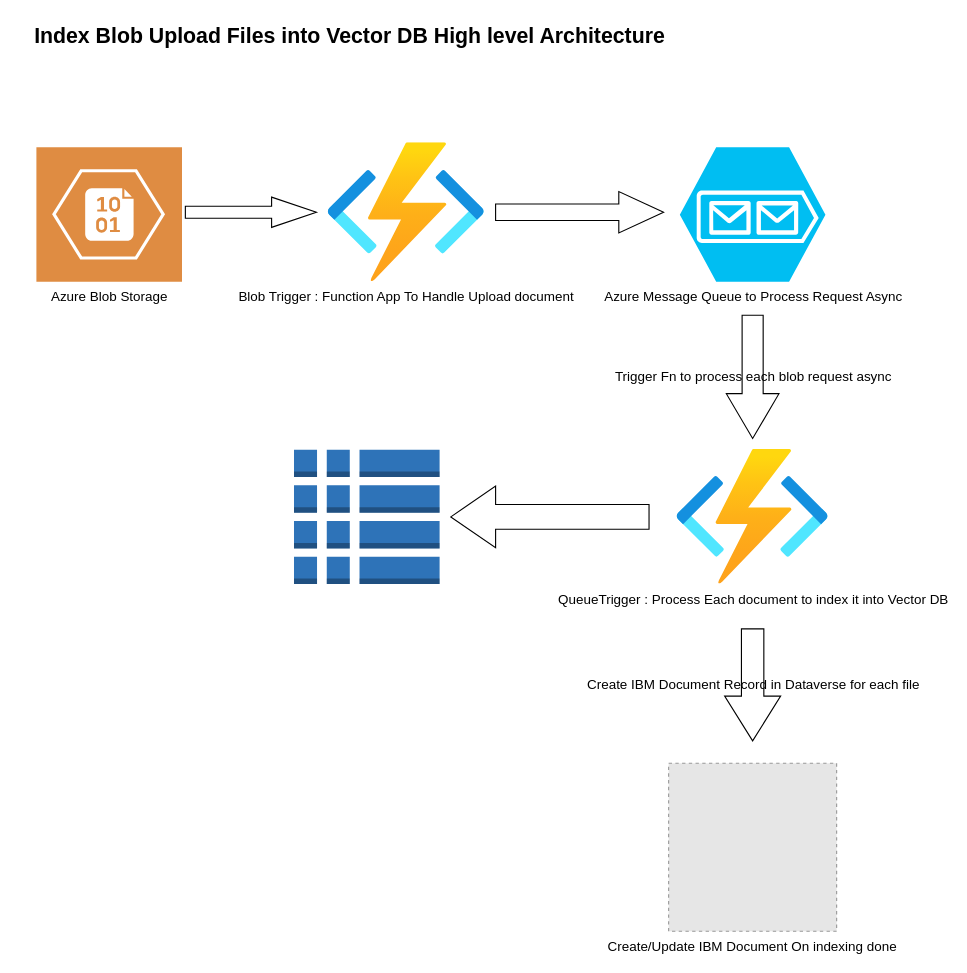
Some shapes in this 967 by 973 pixel diagram are drawn without their labels. Grey dashed boxes stand in for pictures. Each missing label, with the centre of its shape:
"Azure Vector DB Indexed" belongs at (366,516).
"Index document in Vector DB" belongs at (549,516).
"On Upload Files" belongs at (250,211).
"Send message to Queue" belongs at (579,211).
